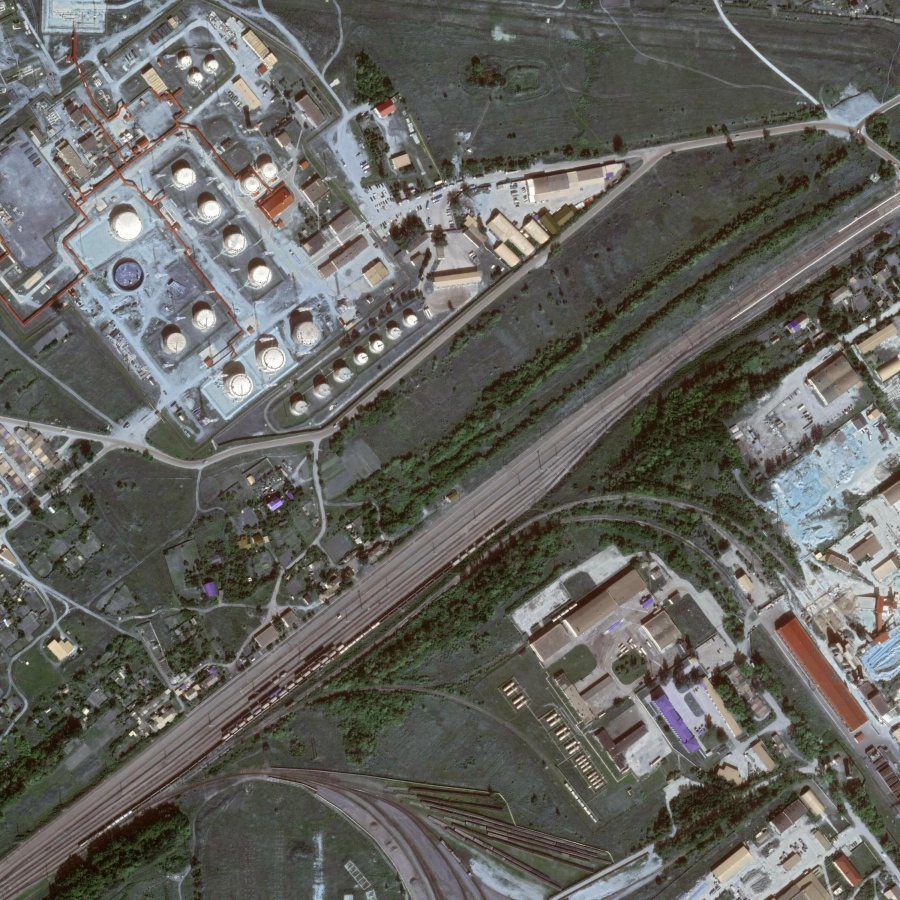PowerPlant: (111, 126, 424, 417)
